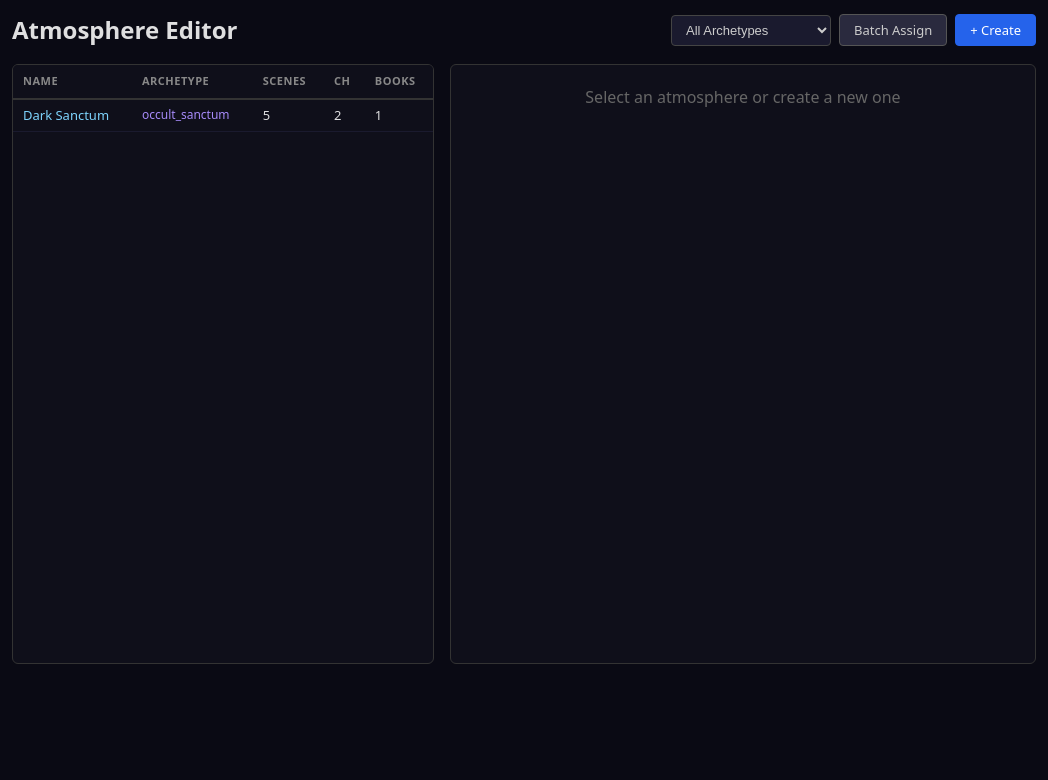
Scenario: AtmosphereEditor › selects an atmosphere and loads detail
Click the text "Dark Sanctum": x=72, y=115 x1=13 y1=98 x2=132 y2=132
(page scrolled)
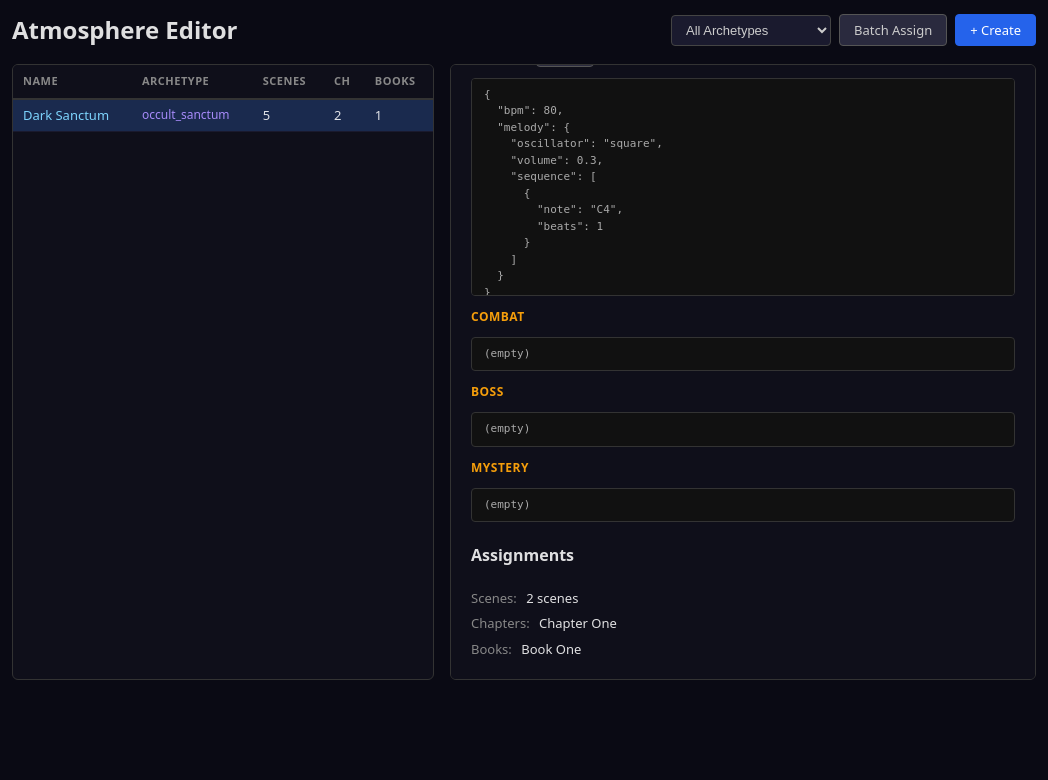
Check: the text "Chapter One" is shown, box x1=539 y1=614 x2=617 y2=632
